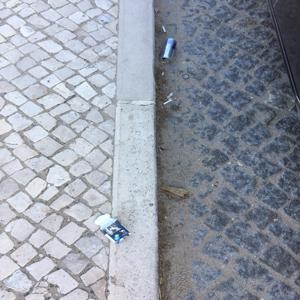metal: (161, 31, 176, 67)
plastic: (96, 213, 133, 245)
